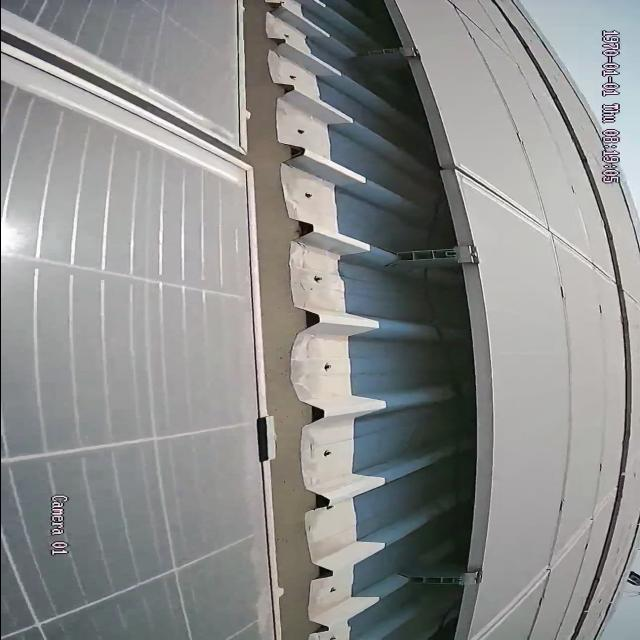interior panel: (2, 7, 219, 176), (489, 494, 607, 635), (466, 171, 605, 278)
outher panel: (235, 1, 489, 640)
